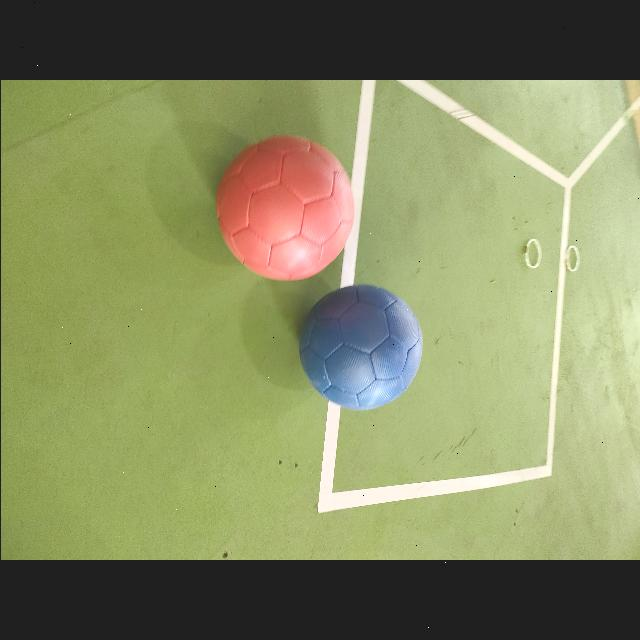B: (298, 284, 422, 410)
R: (217, 136, 353, 280)
